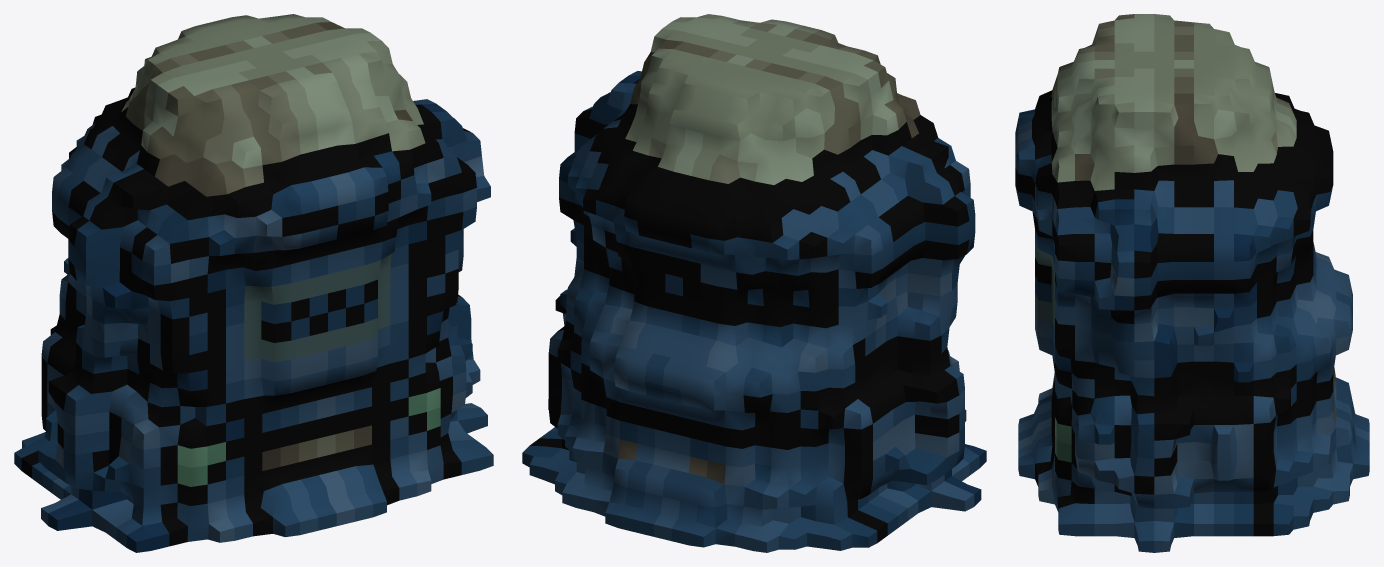
Rendered from Icon_711_03.obj.
3 renders of one model, left to right at view 1: azimuth 30°, elevation 25°; view 2: azimuth 150°, elevation 25°; view 3: azimuth 270°, elevation 25°, orthographic. The views are drawn at different scales.
Size of the model in its own units: 2.37 by 2.2 by 1.78.
1 material, 1 textured.
